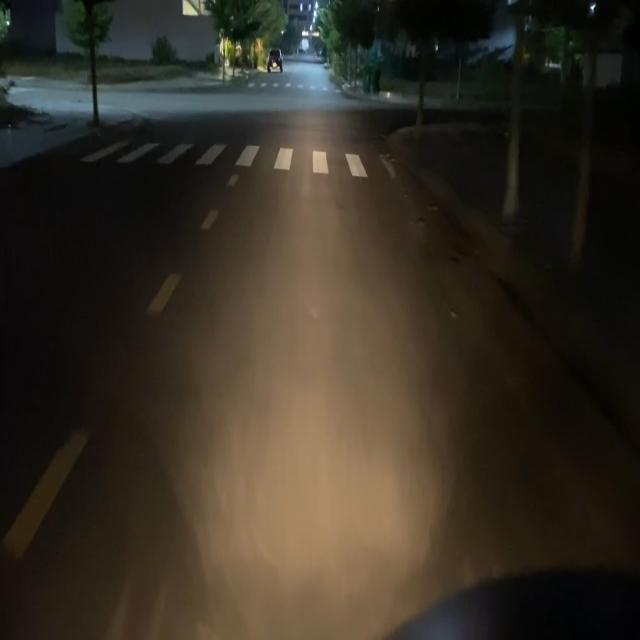walk-crossing: (80, 129, 408, 197)
